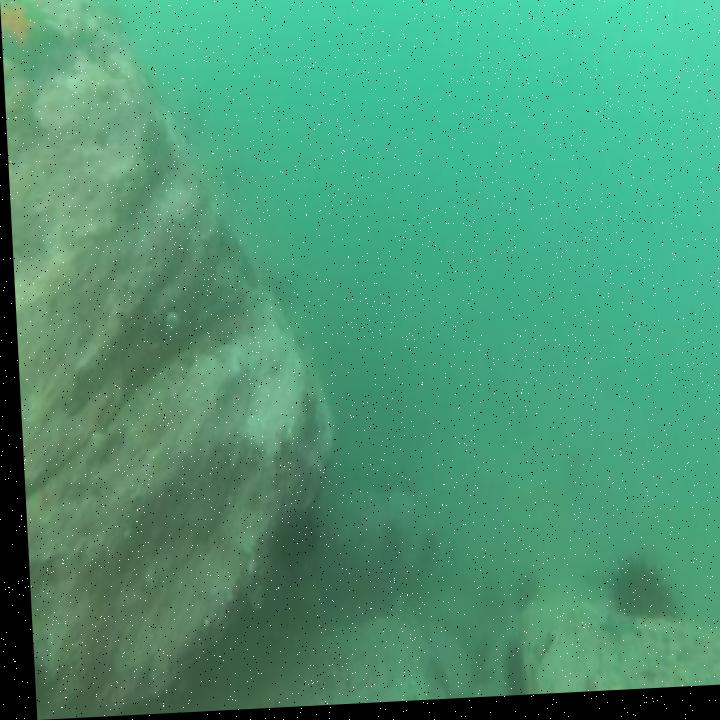echinus: (601, 555, 669, 631), (266, 505, 319, 584), (490, 639, 520, 701), (504, 571, 535, 622)
